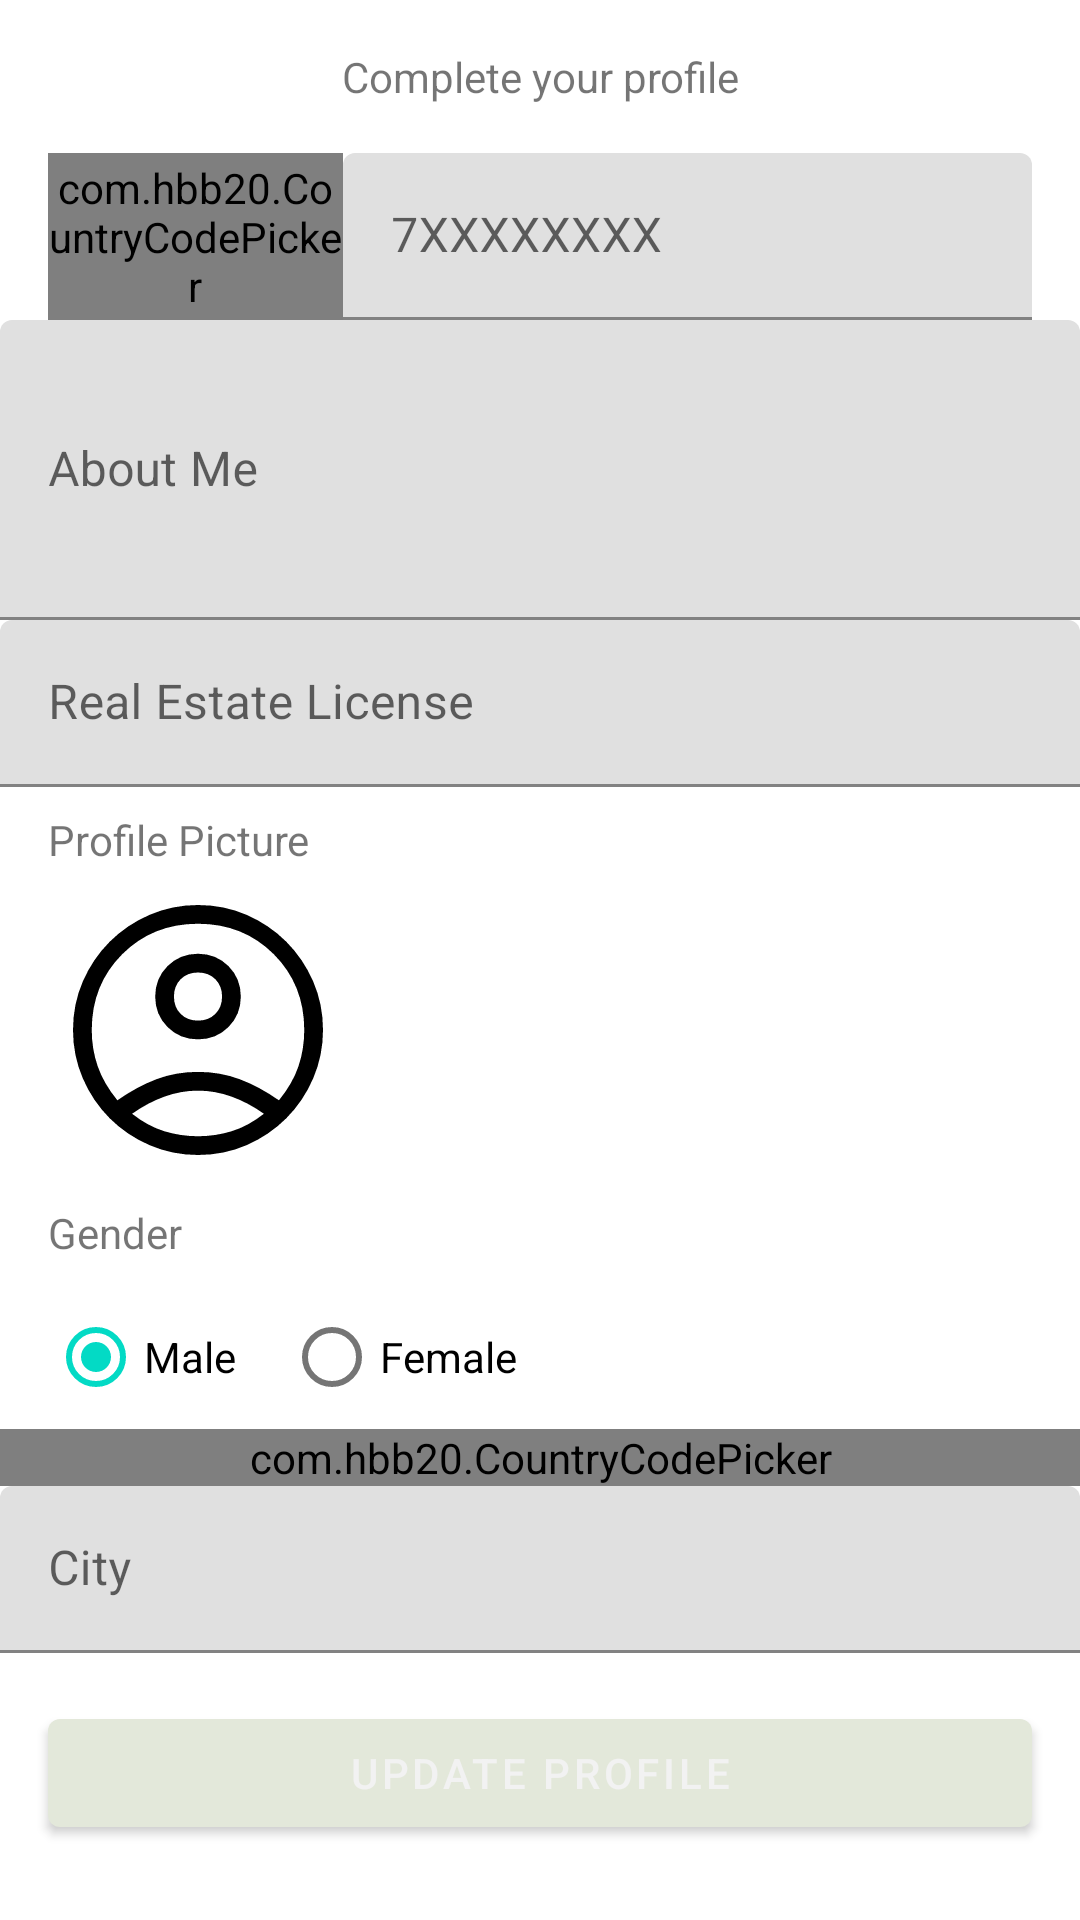

Icons on this 1080px x 1920px Android screen, each with the point to tap as [x,y]:
account circle: [198,1030]
